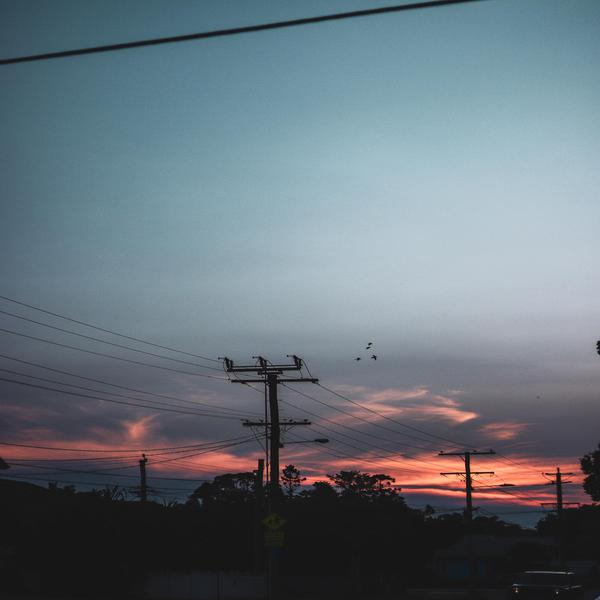utility_pole: (218, 343, 333, 464), (433, 439, 501, 502), (536, 463, 581, 515)
